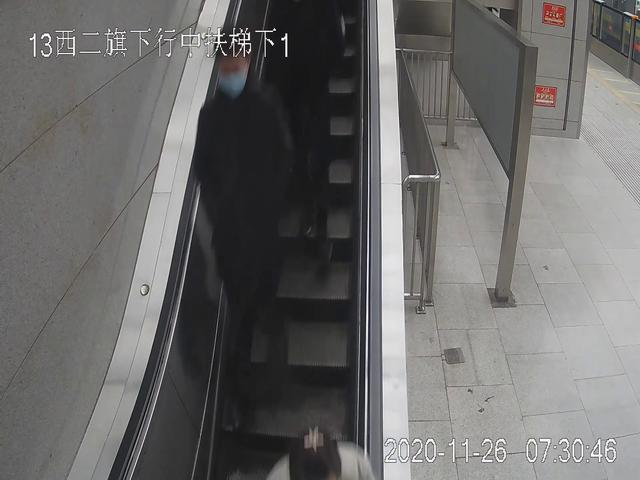person: (194, 37, 299, 434)
